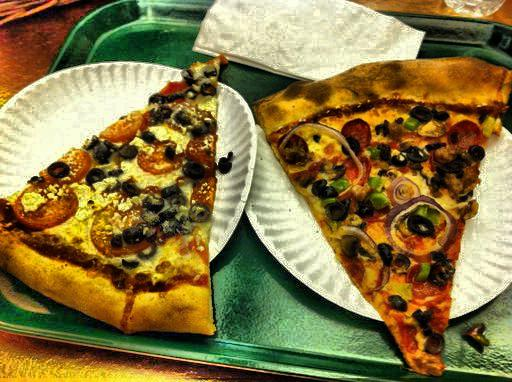pizza: (274, 53, 508, 378)
